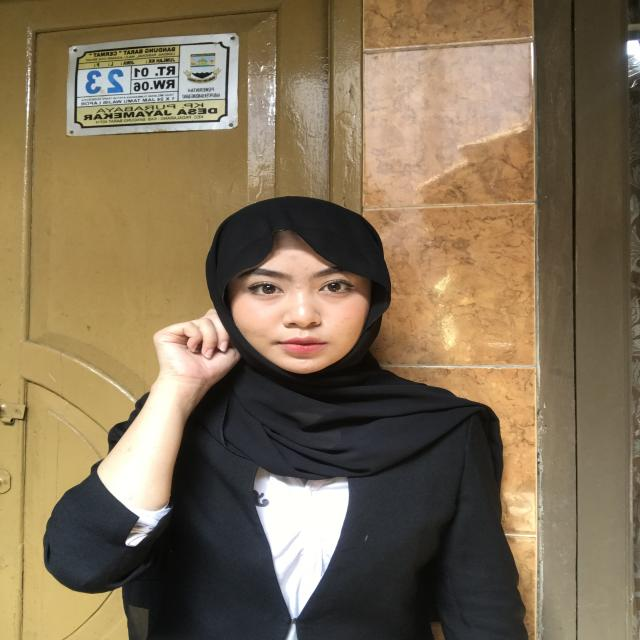ibu: (141, 303, 248, 392)
